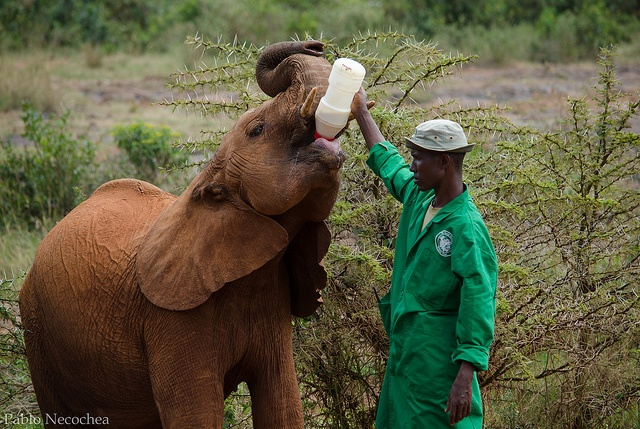elephant: (18, 41, 377, 429)
